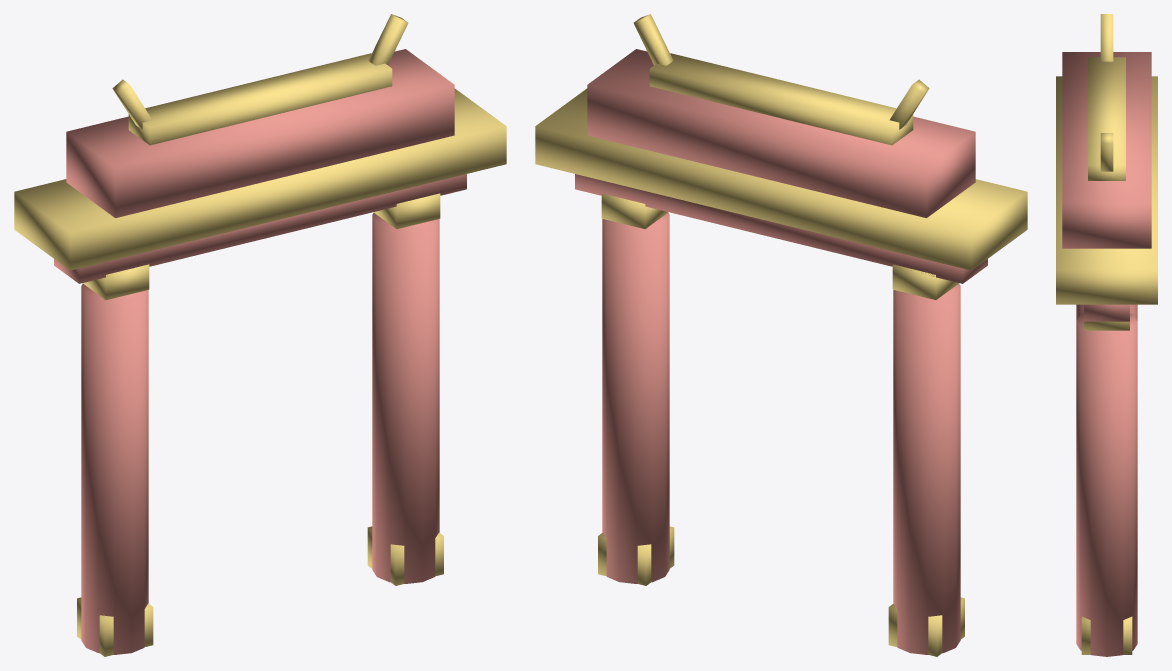
Rendered from thai_temple_gate.glb.
3 views of the same model, side by side, from view 1: azimuth 30°, elevation 25°; view 2: azimuth 150°, elevation 25°; view 3: azimuth 270°, elevation 25° (orthographic). The views are drawn at different scales.
Visible parts, largest first — view 1: roof_upper, roof_lower, col_r, col_l, roof_ridge, crossbeam, col_cap_r, col_cap_l, col_base_r, col_base_l, chofah_r, chofah_l; view 2: roof_upper, roof_lower, col_r, col_l, roof_ridge, crossbeam, col_cap_r, col_cap_l, col_base_r, col_base_l, chofah_r, chofah_l; view 3: col_r, roof_upper, roof_lower, roof_ridge, crossbeam, col_base_r, chofah_l, chofah_r, col_cap_r, col_l.
Boxes of the visible parts, box(x1,y1,x2,y2) form: roof_upper: box(66, 49, 454, 217); roof_lower: box(14, 88, 506, 270); col_r: box(372, 213, 439, 583); col_l: box(81, 284, 148, 654); roof_ridge: box(128, 53, 392, 145); crossbeam: box(54, 174, 466, 283); col_cap_r: box(373, 193, 440, 229); col_cap_l: box(82, 264, 149, 299); col_base_r: box(367, 526, 443, 585); col_base_l: box(77, 597, 153, 656); chofah_r: box(368, 14, 408, 65); chofah_l: box(112, 79, 152, 129); roof_upper: box(587, 49, 975, 217); roof_lower: box(535, 88, 1027, 270); col_r: box(602, 213, 669, 583); col_l: box(893, 284, 960, 654); roof_ridge: box(649, 53, 913, 145); crossbeam: box(575, 174, 987, 283); col_cap_r: box(601, 193, 668, 229); col_cap_l: box(892, 264, 959, 299); col_base_r: box(598, 526, 674, 585); col_base_l: box(888, 597, 964, 656); chofah_r: box(633, 14, 673, 65); chofah_l: box(889, 79, 929, 129); col_r: box(1076, 313, 1137, 656); roof_upper: box(1062, 52, 1151, 248); roof_lower: box(1056, 76, 1157, 304); roof_ridge: box(1088, 57, 1125, 180); crossbeam: box(1084, 304, 1129, 321); col_base_r: box(1081, 616, 1132, 654); chofah_l: box(1100, 14, 1113, 61); chofah_r: box(1100, 133, 1113, 171); col_cap_r: box(1084, 321, 1129, 330); col_l: box(1076, 304, 1137, 320).
Bounding box in the file's own units: 1.8 × 2.19 × 0.4.
